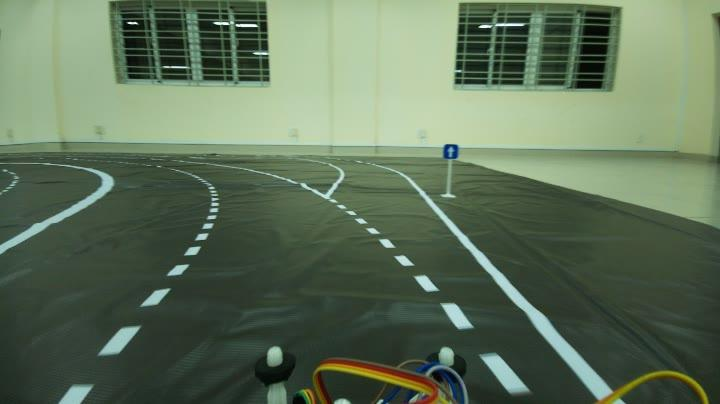onewayroad: (439, 136, 464, 166)
